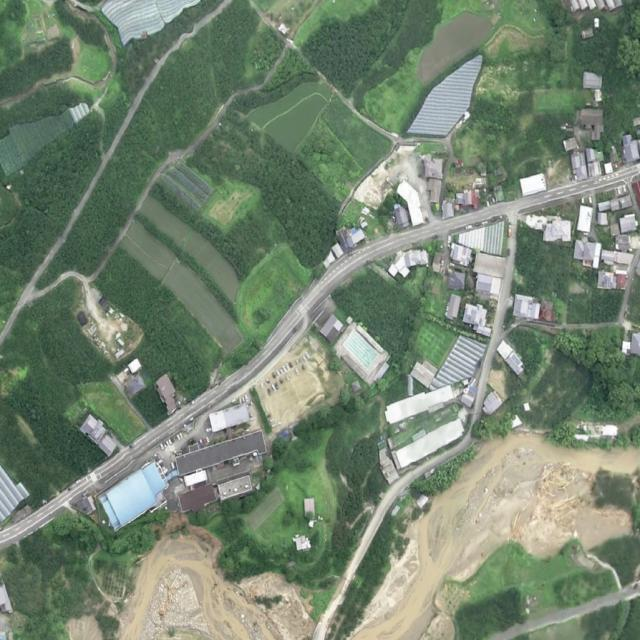landslide: (352, 436, 640, 640), (117, 516, 314, 640)
